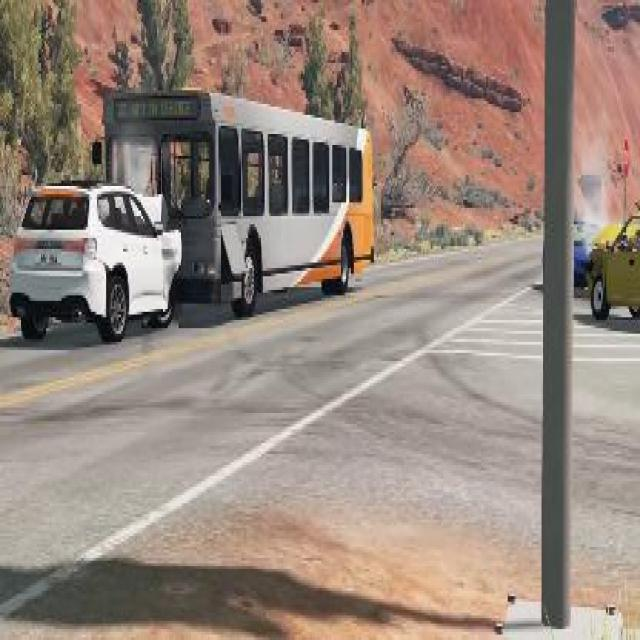accident: (5, 71, 380, 342)
